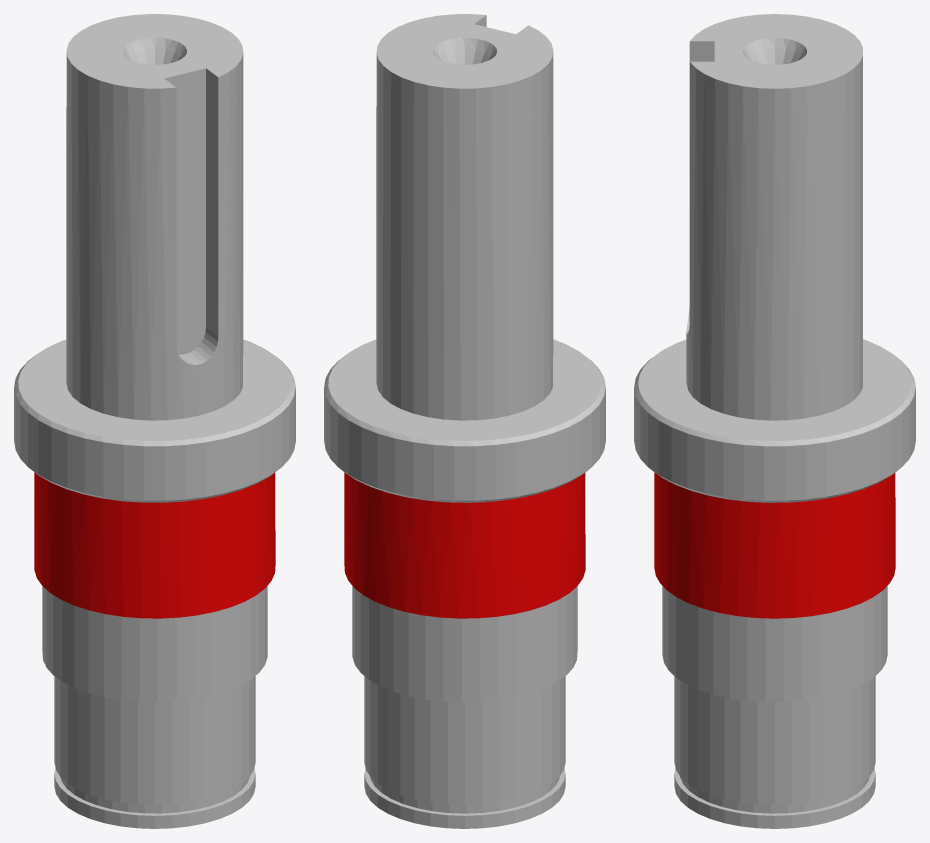
The model's file is 13_stp_9_12.obj.
3 renders of one model, left to right at view 1: azimuth 30°, elevation 25°; view 2: azimuth 150°, elevation 25°; view 3: azimuth 270°, elevation 25°, orthographic.
Visible parts, largest first — view 1: Object1; view 2: Object1; view 3: Object1.
Boxes of the visible parts, <box> form: Object1: <box>14,14,295,828</box>; Object1: <box>324,14,605,828</box>; Object1: <box>634,14,915,828</box>.
Bounding box in the file's own units: 34.9 × 101 × 35.
